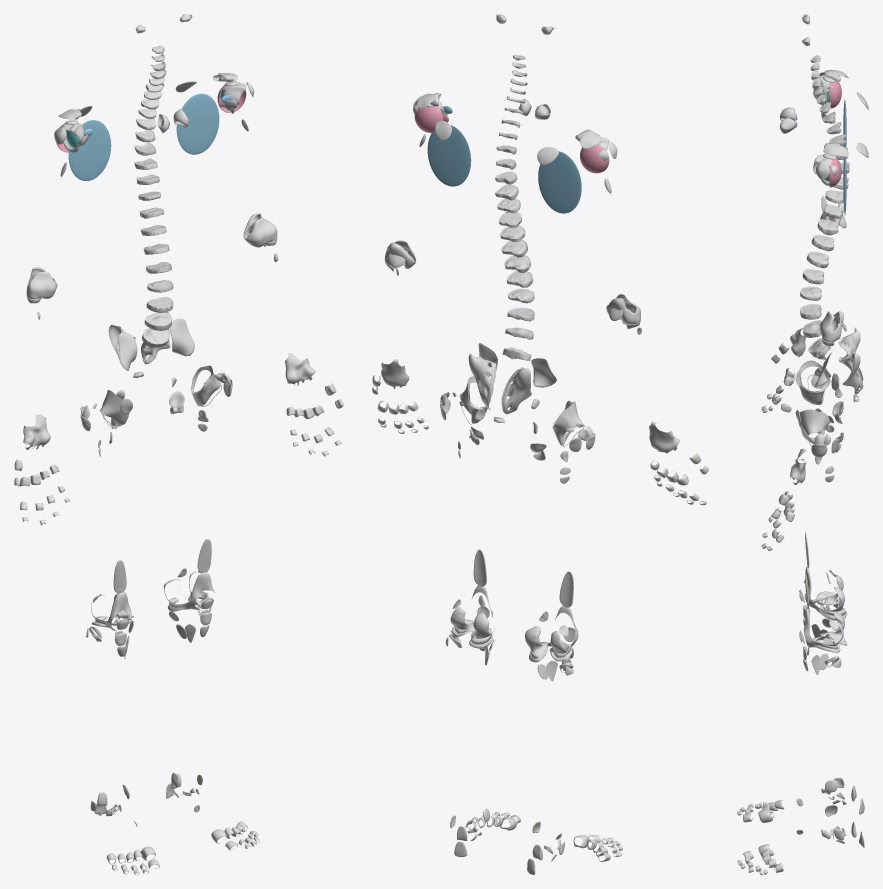
File: z-articulacoes.glb
3 views of the same model, side by side, from view 1: azimuth 30°, elevation 25°; view 2: azimuth 150°, elevation 25°; view 3: azimuth 270°, elevation 25° (orthographic). The views are drawn at different scales.
Visible parts, largest first — view 1: interface-escapulotoracica__HG-interface-escapulotoracica-l, interface-escapulotoracica__HG-interface-escapulotoracica-r, cotovelo__ZA-20b7522d0045f2, cotovelo__ZA-5a9cd8e0b26dd9, joelho__ZA-861071471ec3b0, sacroiliaca__ZA-7c0368c4ee4ec6, radiocarpal__ZA-b39ad4ae0d4115, radiocarpal__ZA-5484c691a021b4; view 2: interface-escapulotoracica__HG-interface-escapulotoracica-r, interface-escapulotoracica__HG-interface-escapulotoracica-l, joelho__ZA-8133a26464c449, joelho__ZA-861071471ec3b0, sacroiliaca__ZA-39f7c973b5a88e, sacroiliaca__ZA-7ae3b960e02402; view 3: joelho__ZA-861071471ec3b0, joelho__ZA-8133a26464c449, coxofemoral__ZA-ac33c90e5b4f81, cotovelo__ZA-20b7522d0045f2, sacroiliaca__ZA-7ae3b960e02402, sacroiliaca__ZA-39f7c973b5a88e, metatarsofalangicas__ZA-4cd7ec615c84c1, metatarsofalangicas__ZA-898fb398bf6e17, radiocarpal__ZA-b39ad4ae0d4115, radiocarpal__ZA-5484c691a021b4, metacarpofalangicas__ZA-698af4cc100643, intervertebrais__ZA-46af93e9af4658 (+5 smaller).
Part boxes in pixels (box(x1,y1,x2,y2)): interface-escapulotoracica__HG-interface-escapulotoracica-l: box(176, 93, 219, 154); interface-escapulotoracica__HG-interface-escapulotoracica-r: box(68, 120, 111, 180); cotovelo__ZA-20b7522d0045f2: box(243, 213, 277, 247); cotovelo__ZA-5a9cd8e0b26dd9: box(26, 267, 57, 299); joelho__ZA-861071471ec3b0: box(164, 571, 214, 611); sacroiliaca__ZA-7c0368c4ee4ec6: box(170, 318, 194, 356); radiocarpal__ZA-b39ad4ae0d4115: box(285, 353, 315, 385); radiocarpal__ZA-5484c691a021b4: box(23, 414, 50, 449); interface-escapulotoracica__HG-interface-escapulotoracica-r: box(538, 151, 581, 213); interface-escapulotoracica__HG-interface-escapulotoracica-l: box(427, 125, 471, 186); joelho__ZA-8133a26464c449: box(525, 606, 578, 662); joelho__ZA-861071471ec3b0: box(450, 585, 494, 648); sacroiliaca__ZA-39f7c973b5a88e: box(501, 367, 531, 414); sacroiliaca__ZA-7ae3b960e02402: box(468, 354, 495, 409); joelho__ZA-861071471ec3b0: box(803, 607, 847, 653); joelho__ZA-8133a26464c449: box(804, 566, 847, 620); coxofemoral__ZA-ac33c90e5b4f81: box(799, 409, 830, 444); cotovelo__ZA-20b7522d0045f2: box(819, 311, 843, 342); sacroiliaca__ZA-7ae3b960e02402: box(838, 353, 863, 394); sacroiliaca__ZA-39f7c973b5a88e: box(838, 327, 863, 380); metatarsofalangicas__ZA-4cd7ec615c84c1: box(758, 844, 783, 872); metatarsofalangicas__ZA-898fb398bf6e17: box(758, 799, 784, 822); radiocarpal__ZA-b39ad4ae0d4115: box(790, 448, 806, 484); radiocarpal__ZA-5484c691a021b4: box(790, 328, 805, 357); metacarpofalangicas__ZA-698af4cc100643: box(778, 491, 794, 521); intervertebrais__ZA-46af93e9af4658: box(800, 304, 821, 319).
Bounding box in the file's own units: 0.6615 × 1.57 × 0.2305.
